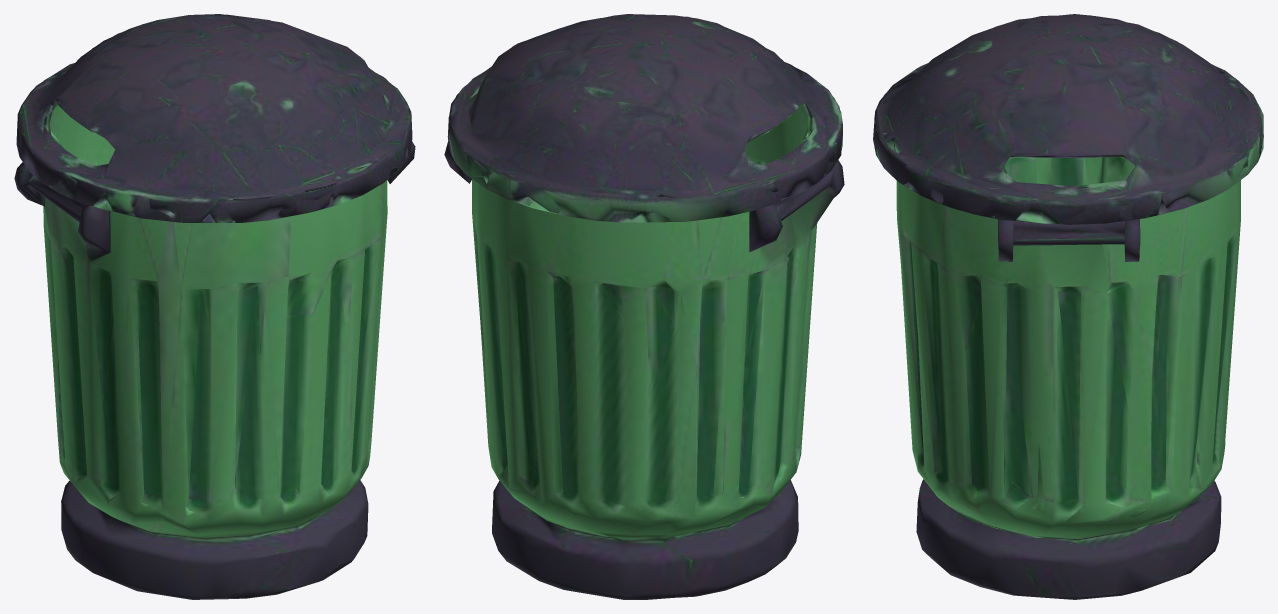
The model's file is trash-bin-512.glb.
3 views of the same model, side by side, from view 1: azimuth 30°, elevation 25°; view 2: azimuth 150°, elevation 25°; view 3: azimuth 270°, elevation 25° (orthographic).
Bounding box in the file's own units: 1.35 × 1.89 × 1.33.
Materials: 1 (1 with a texture image).
